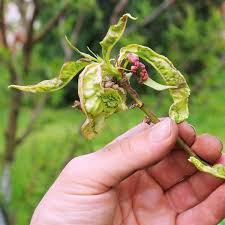Diseased_Leaves: (98, 76, 128, 110), (80, 81, 99, 133), (125, 52, 149, 80)
